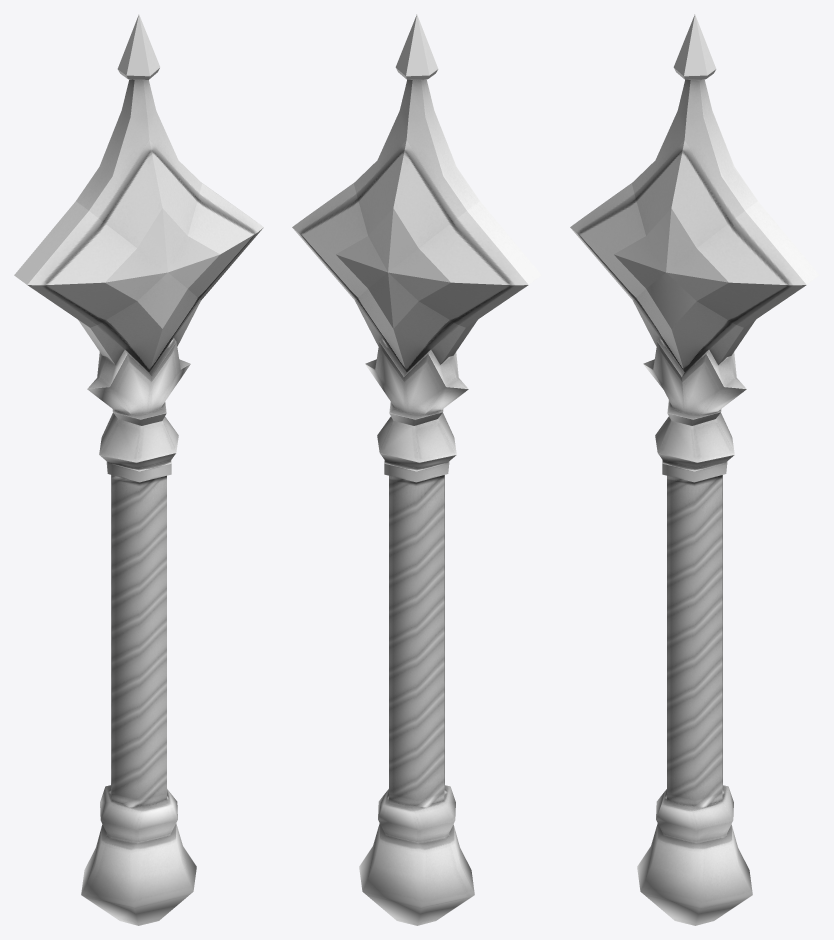
Rendered from 170_a_sceptre.fbx.
The picture shows the model from 3 angles, left to right: view 1: azimuth 30°, elevation 25°; view 2: azimuth 150°, elevation 25°; view 3: azimuth 330°, elevation 25°; orthographic projection.
Visible parts, largest first — view 1: 170_a_sceptre; view 2: 170_a_sceptre; view 3: 170_a_sceptre.
Boxes of the visible parts, x1=… form: 170_a_sceptre: x1=14, y1=14, x2=263, y2=925; 170_a_sceptre: x1=292, y1=14, x2=541, y2=925; 170_a_sceptre: x1=570, y1=14, x2=819, y2=925.
Size of the model in its own units: 12.1 by 44.06 by 5.12.
